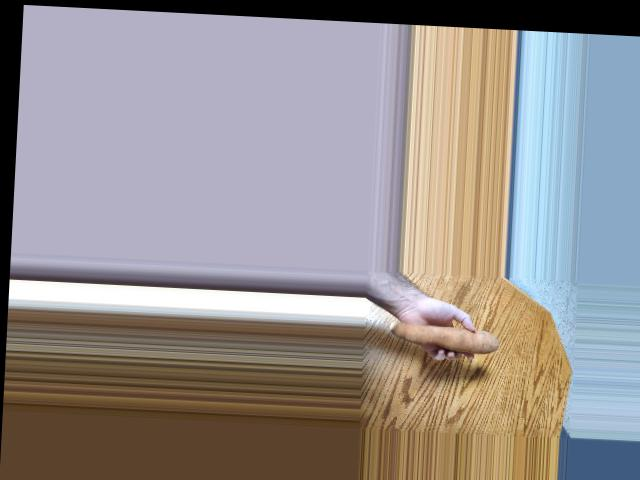sweet_potato: (392, 323, 503, 362)
